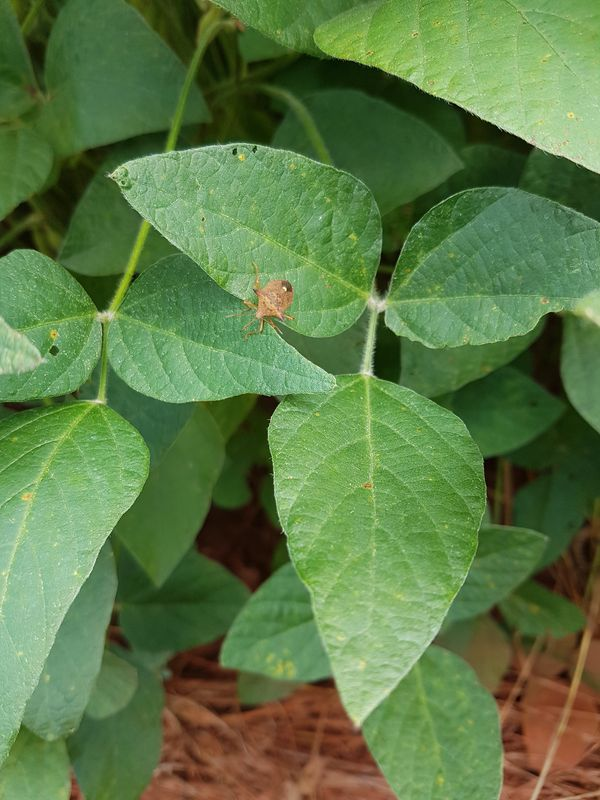Euschistus_heros_adulto: (222, 257, 309, 345)
